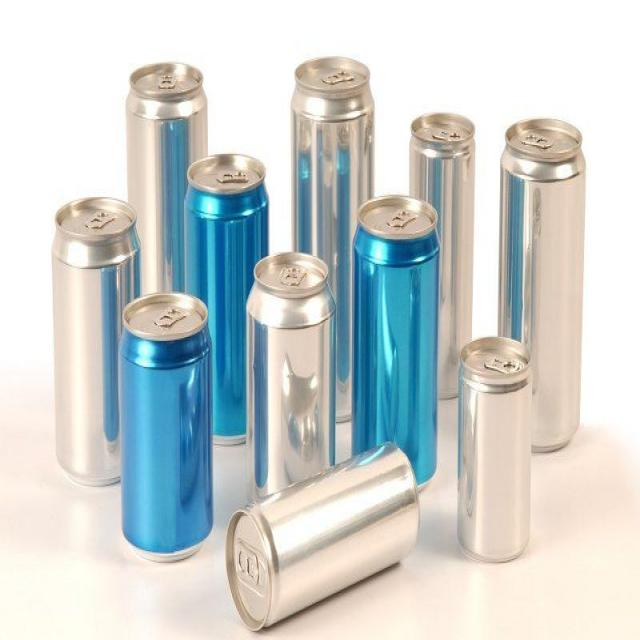metel: (276, 40, 393, 437), (492, 96, 603, 483), (225, 437, 436, 637), (164, 134, 279, 458), (242, 221, 356, 537), (110, 289, 231, 567), (43, 185, 142, 514), (400, 91, 491, 418), (124, 36, 225, 287), (451, 328, 545, 582)
